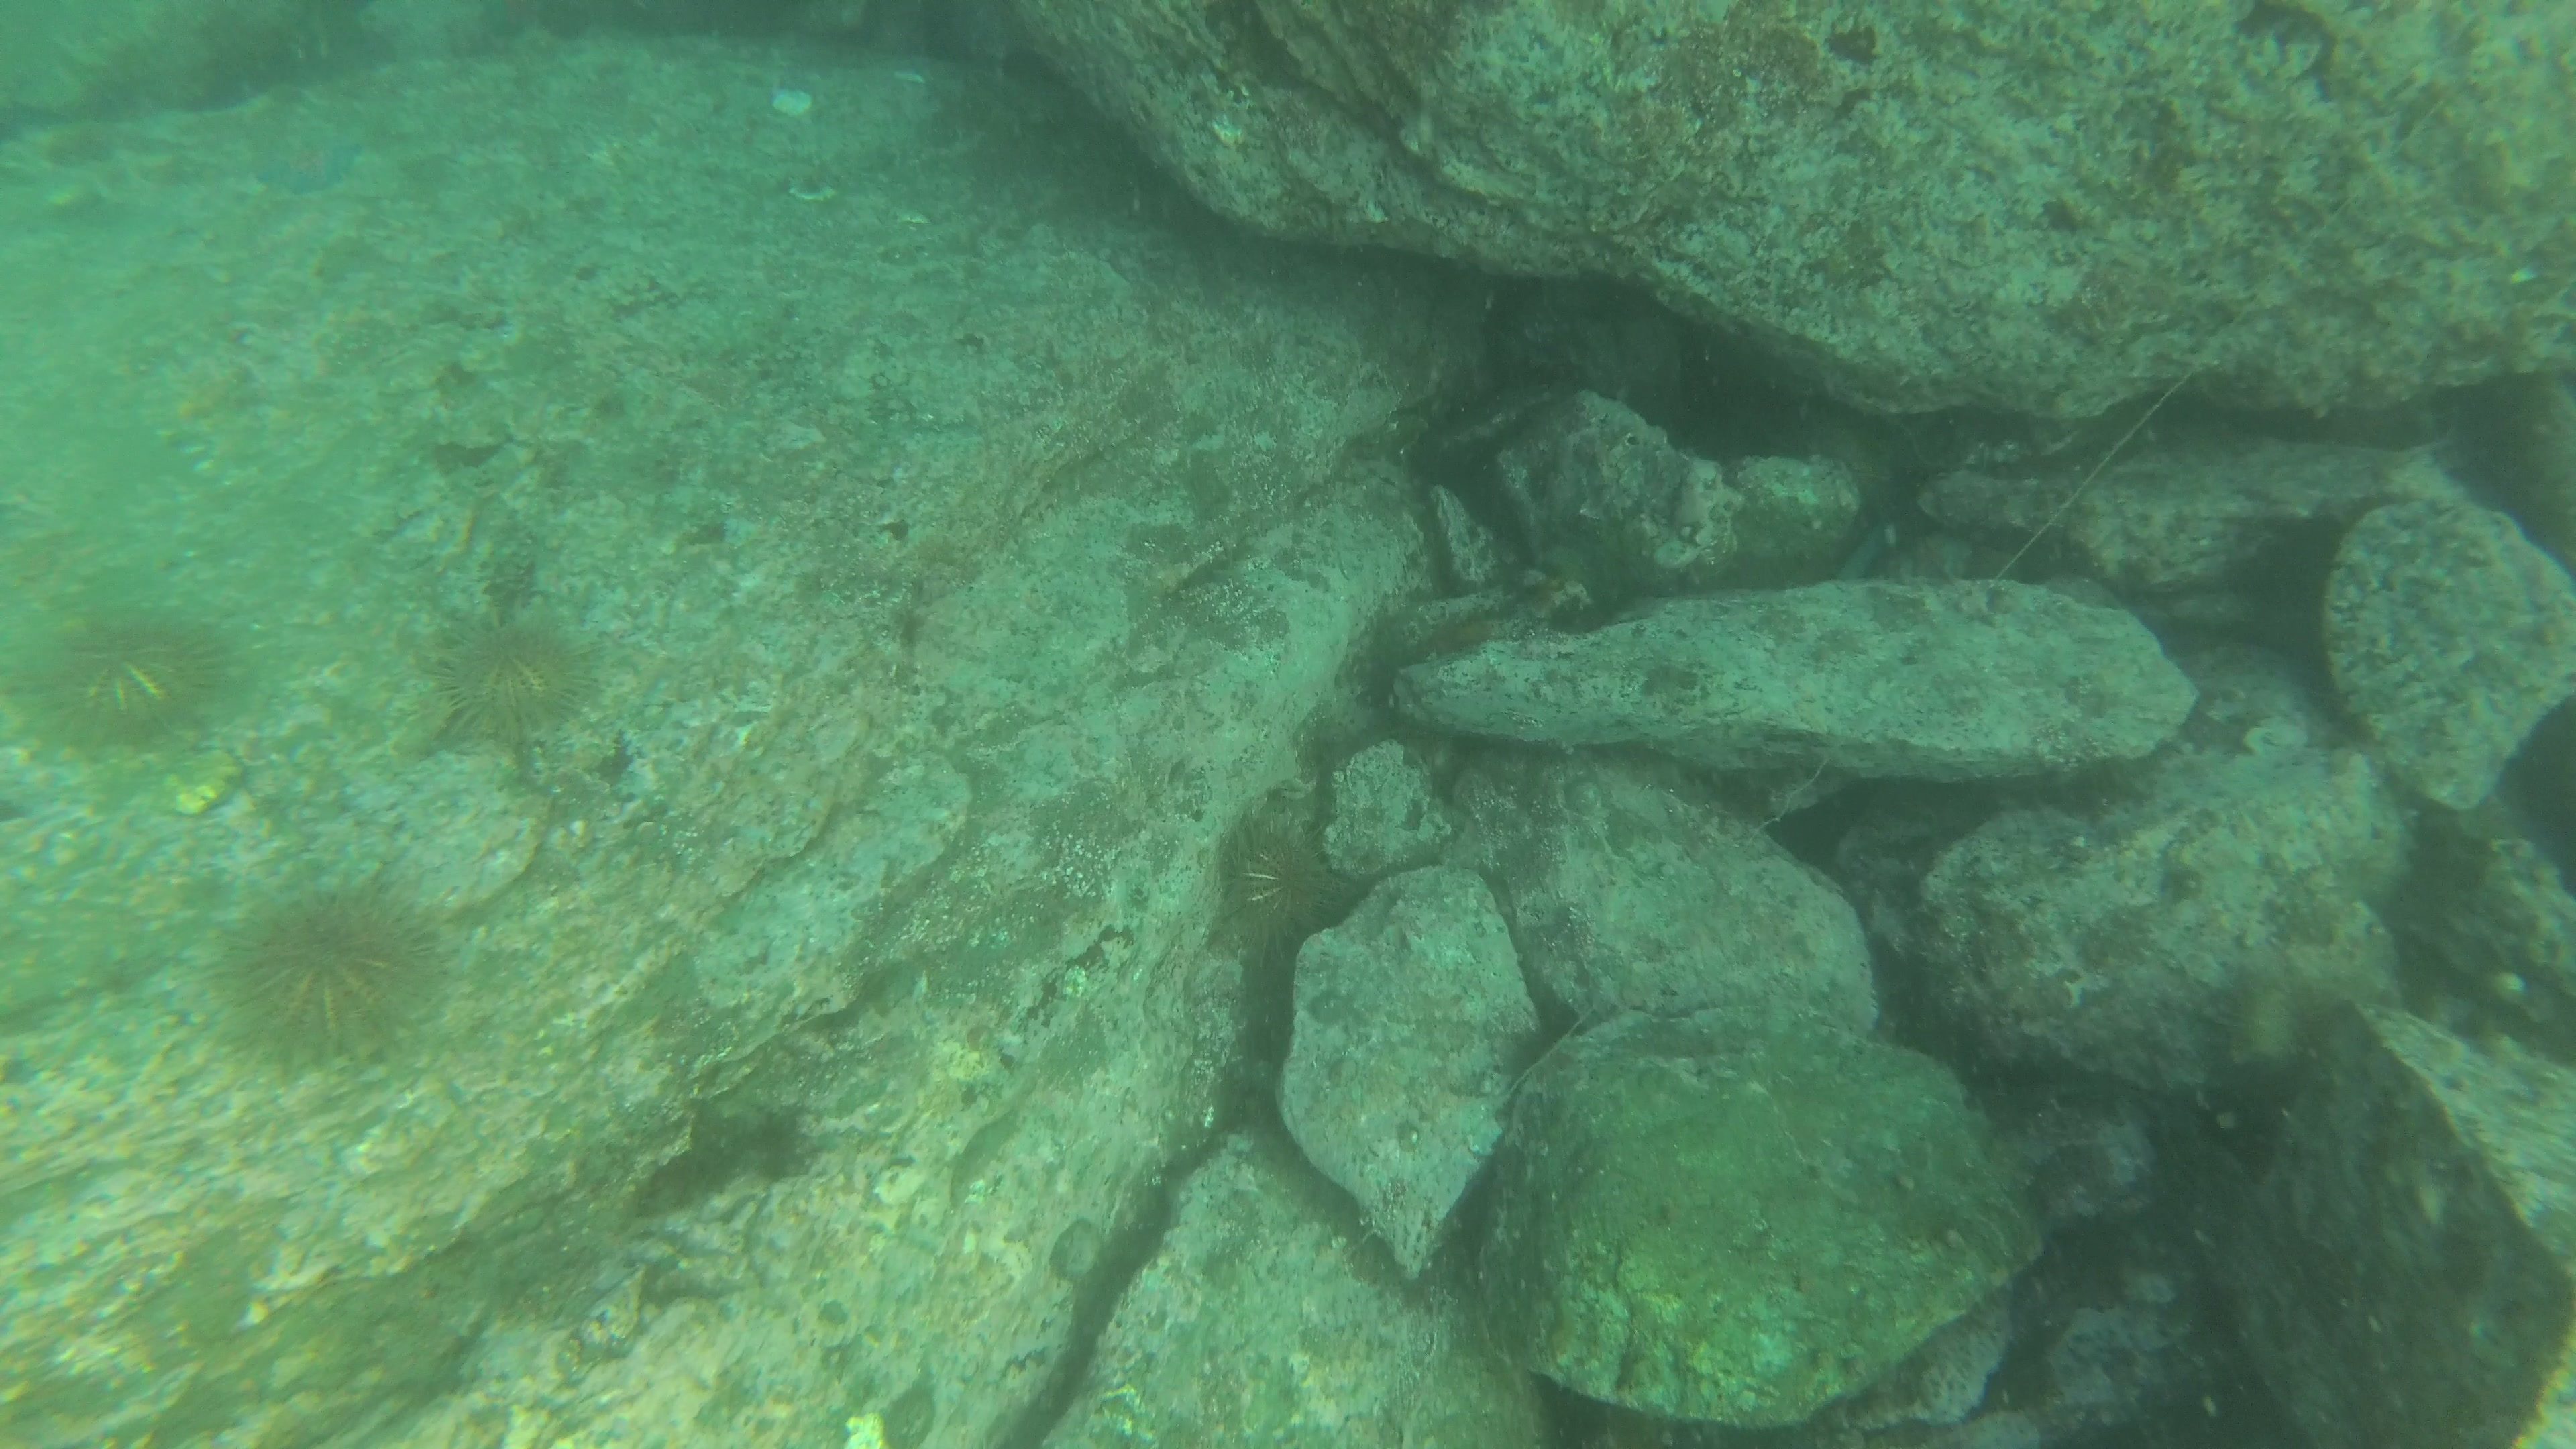echinus: (226, 911, 446, 1062), (50, 619, 234, 736), (421, 619, 600, 725), (1219, 819, 1336, 955), (2217, 971, 2307, 1076)
starfish: (246, 136, 363, 195)
